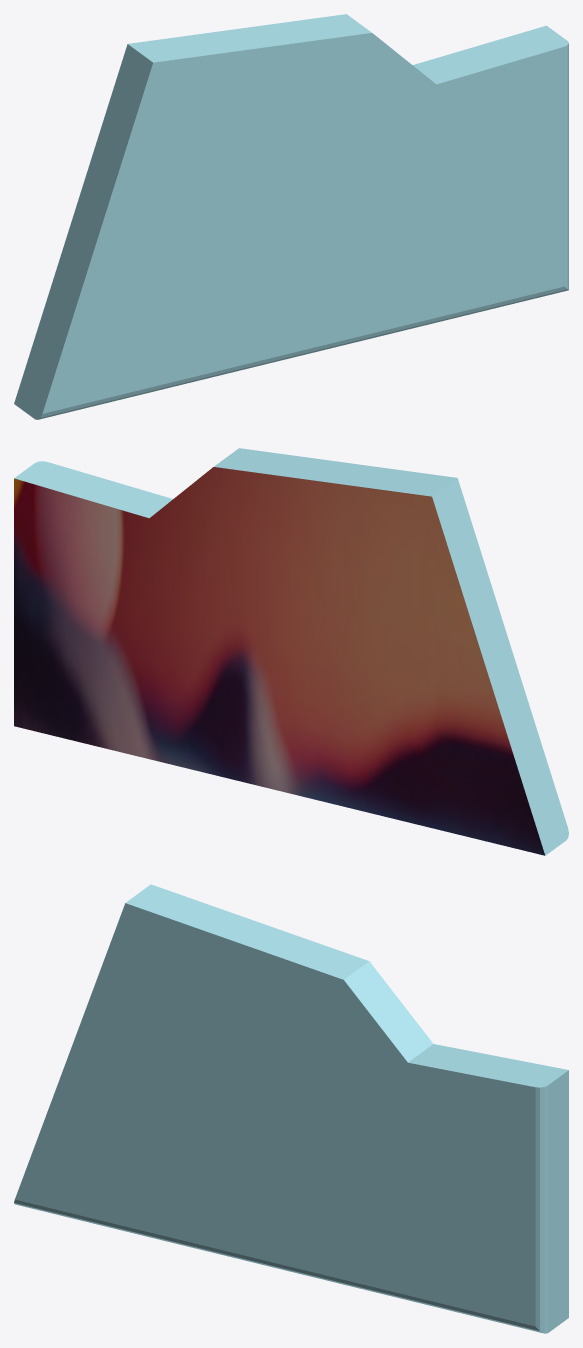
Rendered from monde10.glb.
3 views of the same model, one above another, from view 1: azimuth 30°, elevation 25°; view 2: azimuth 150°, elevation 25°; view 3: azimuth 330°, elevation 25° (orthographic).
Parts seen in each view (by area): view 1: Plane.011; view 2: Plane.011; view 3: Plane.011.
Boxes of the visible parts, <box> form: Plane.011: <box>14,14,568,419</box>; Plane.011: <box>14,448,568,855</box>; Plane.011: <box>14,884,568,1333</box>.
Bounding box in the file's own units: 59.87 × 35.7 × 5.
2 materials, 1 textured.
